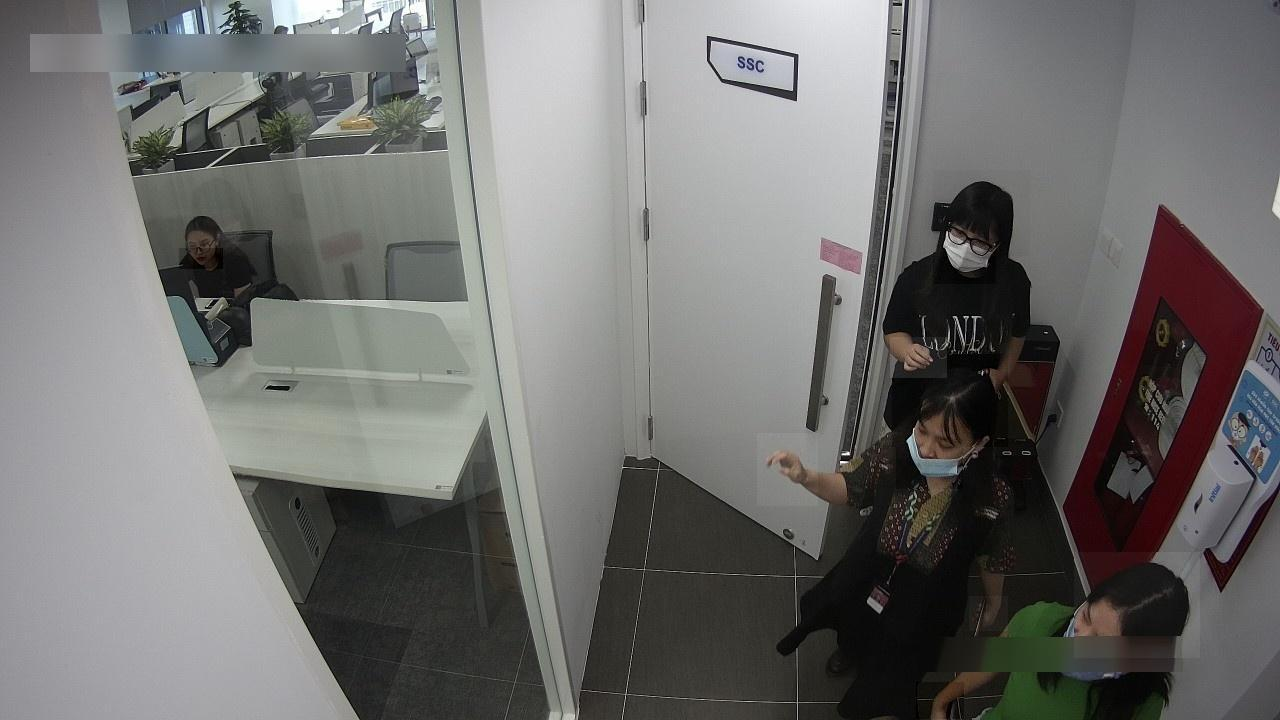mask: (933, 234, 996, 285)
no_apron: (757, 433, 818, 506), (891, 337, 948, 378), (917, 683, 965, 720), (970, 596, 1009, 632)
no_gloves: (1075, 552, 1201, 658), (893, 354, 1009, 448), (933, 171, 1030, 257), (173, 209, 236, 248)
no_hairnet: (897, 434, 964, 490), (179, 226, 223, 269)
